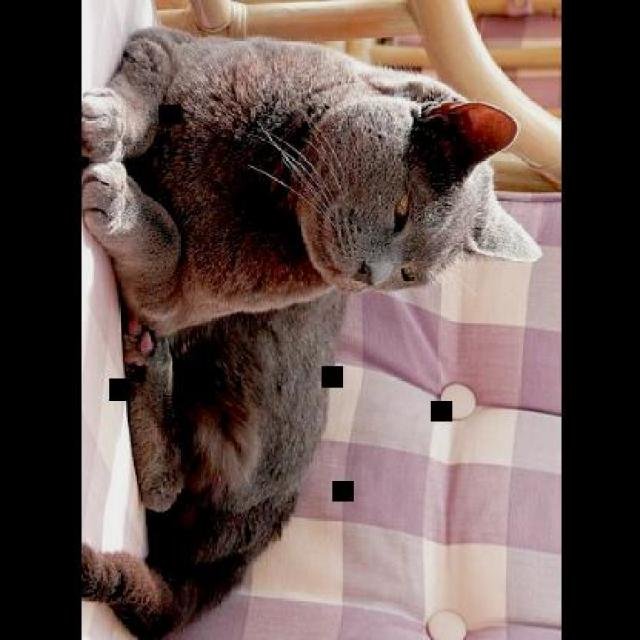unauthorized: (79, 23, 542, 639)
